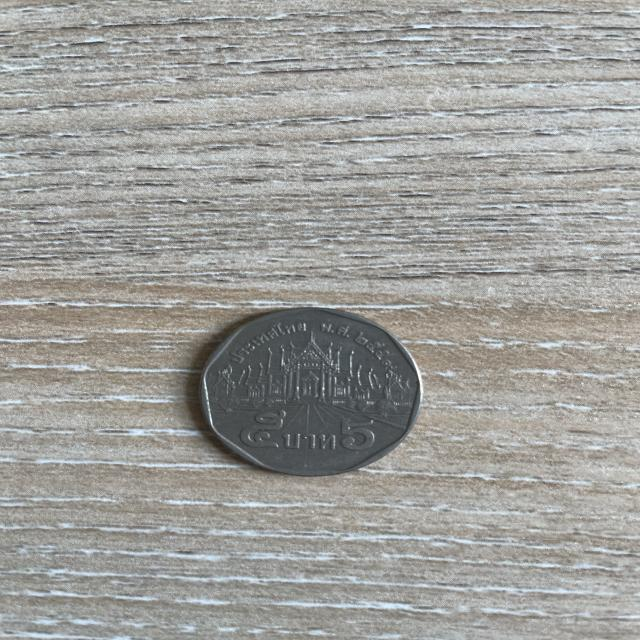5 Bath: (190, 295, 435, 484)
